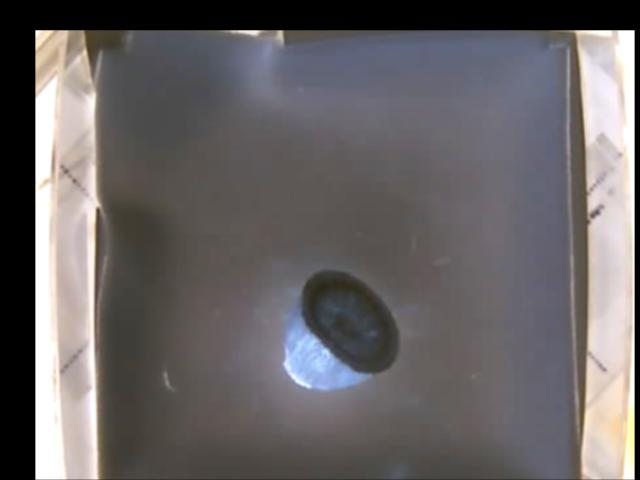Mooli: (280, 266, 400, 387)
